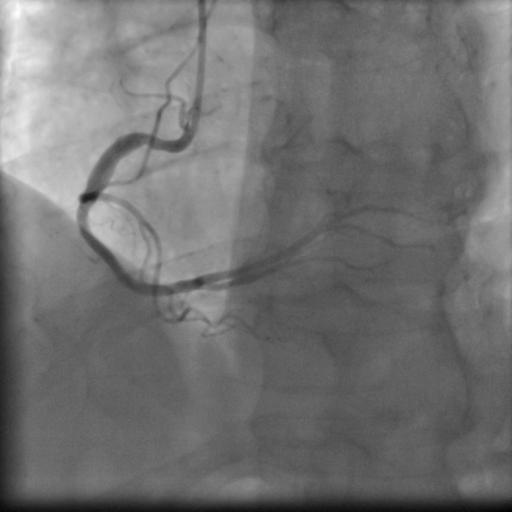Stenosis: (76, 206, 93, 231)
